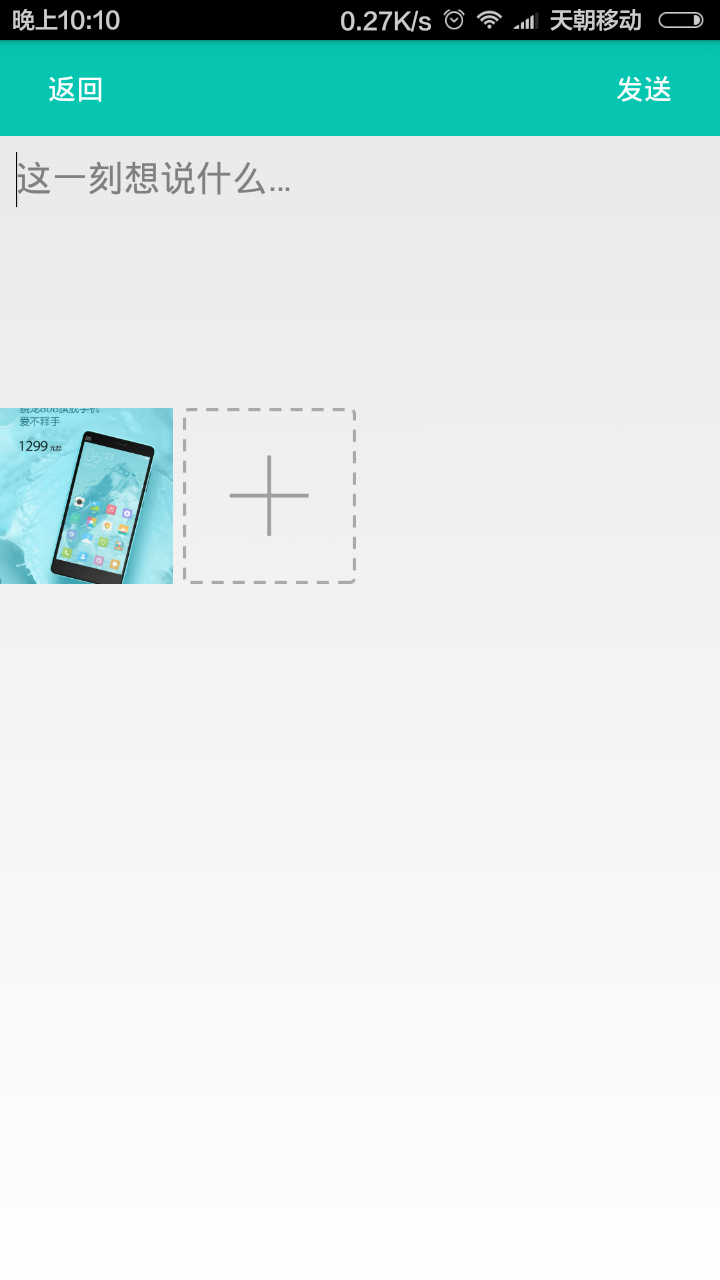imgview: (4, 402, 178, 592)
textview: (4, 139, 636, 220)
